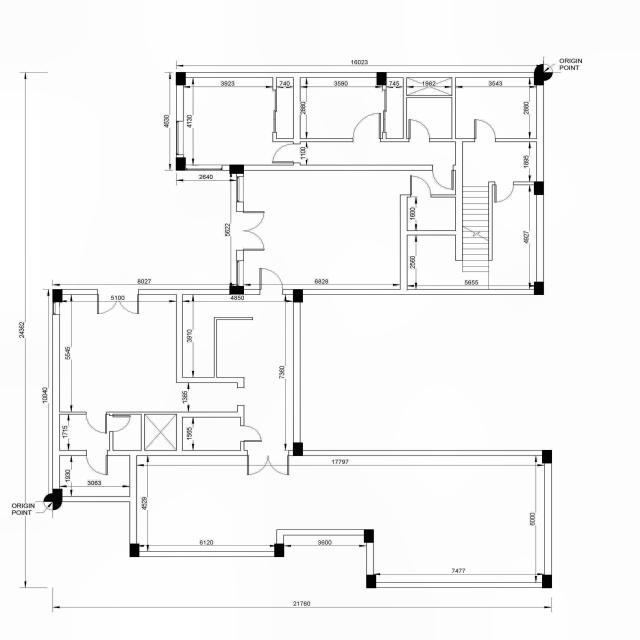Column: (130, 544, 140, 558), (274, 544, 284, 558), (293, 442, 303, 456), (364, 529, 374, 543), (366, 574, 376, 588), (542, 574, 552, 588), (534, 181, 544, 195), (229, 164, 244, 173), (229, 286, 244, 295), (176, 72, 186, 85), (176, 157, 186, 170), (52, 289, 62, 302), (52, 489, 62, 502), (542, 450, 552, 463), (376, 72, 386, 85), (534, 72, 544, 85), (534, 282, 544, 295), (293, 290, 303, 302)
Door: (352, 113, 382, 142), (272, 142, 300, 166), (260, 268, 284, 295), (86, 450, 108, 475), (406, 119, 429, 142), (409, 175, 432, 198), (432, 165, 453, 190), (474, 119, 496, 142), (86, 412, 107, 434), (494, 182, 514, 202), (240, 426, 262, 442), (110, 415, 130, 432)
Double-Door: (247, 450, 289, 475), (237, 212, 264, 250), (98, 289, 138, 314)
Sliding Door: (382, 90, 387, 132), (272, 90, 276, 132)
Staircase: (462, 182, 488, 286)
Window: (176, 121, 183, 157), (186, 165, 222, 171), (236, 176, 244, 202), (236, 260, 244, 286), (52, 302, 60, 315)
